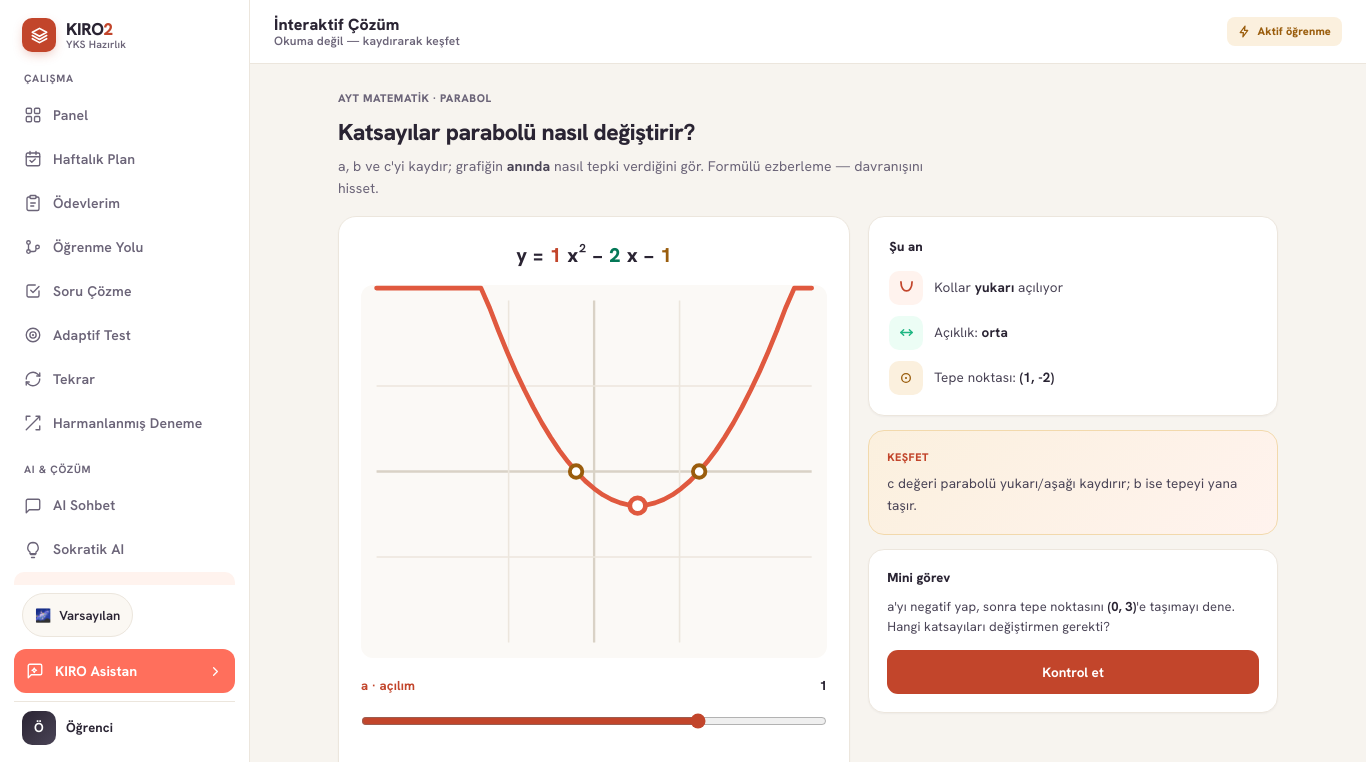
Test: InteraktifCozumPage › kaydırıcı: a negatif olunca içgörü + yön canlı güncellenir
The image size is (1366, 762).
Expected: the text "yukarı" is shown, 975,278 -> 1014,296
Set the slider named "a katsayısı — açılım" to "-1" at (482, 720), box 361,698 -> 827,742
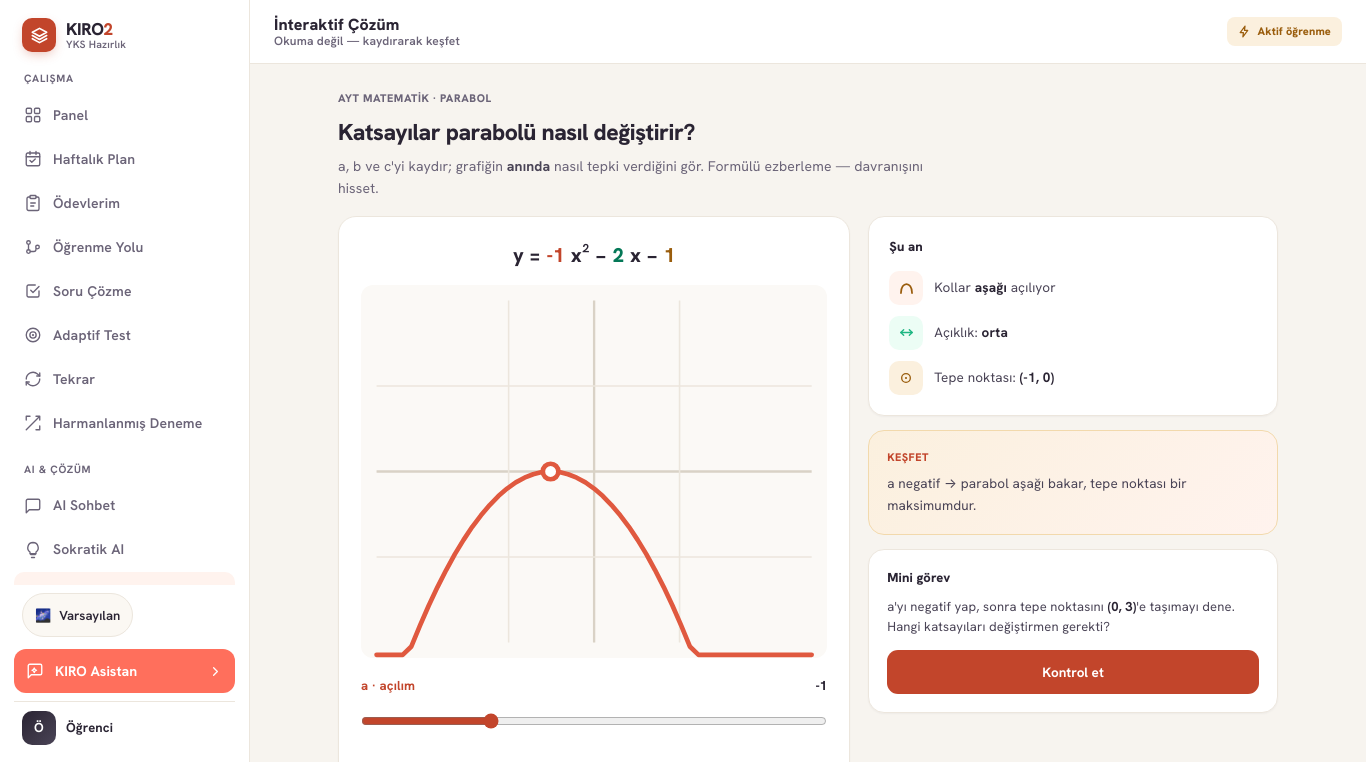
Result: the text "aşağı" is shown at 975,278 -> 1007,296
Result: the text "parabol aşağı bakar" is shown at 887,474 -> 1187,514
